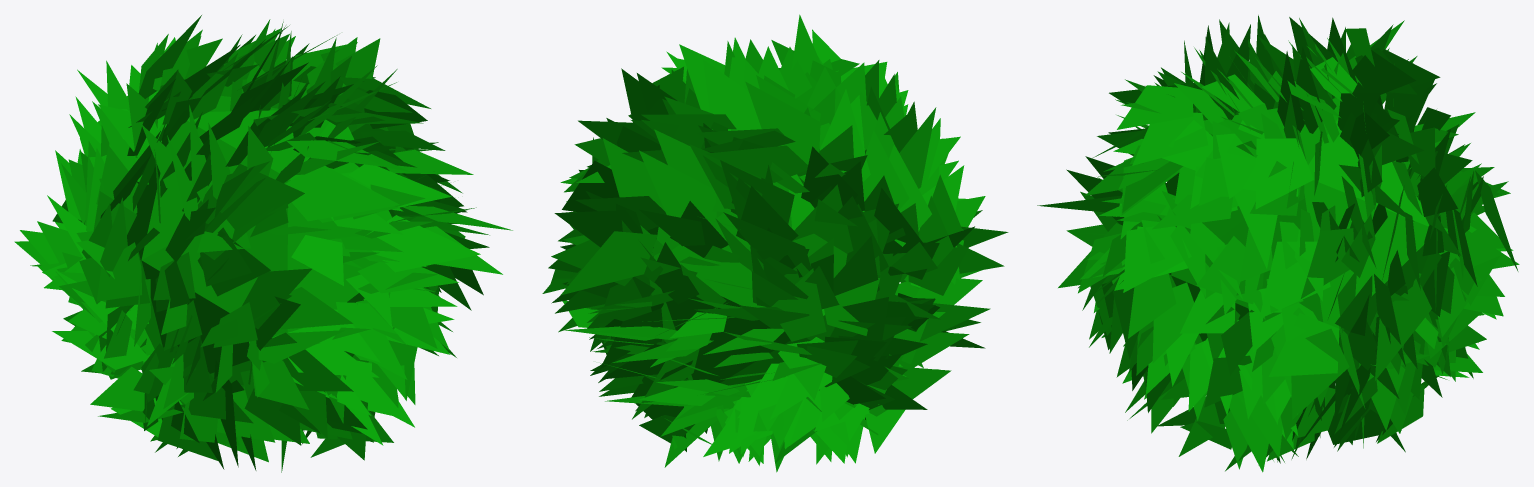
The model's file is Kust_V6.fbx.
3 views of the same model, side by side, from view 1: azimuth 30°, elevation 25°; view 2: azimuth 150°, elevation 25°; view 3: azimuth 270°, elevation 25° (orthographic). The views are drawn at different scales.
Visible parts, largest first — view 1: Kust_V5.001; view 2: Kust_V5.001; view 3: Kust_V5.001.
Boxes of the visible parts, box(x1,y1,x2,y2) form: Kust_V5.001: box(14, 15, 512, 472); Kust_V5.001: box(542, 14, 1008, 472); Kust_V5.001: box(1037, 15, 1519, 472).
Size of the model in its own units: 362 by 359 by 375.
